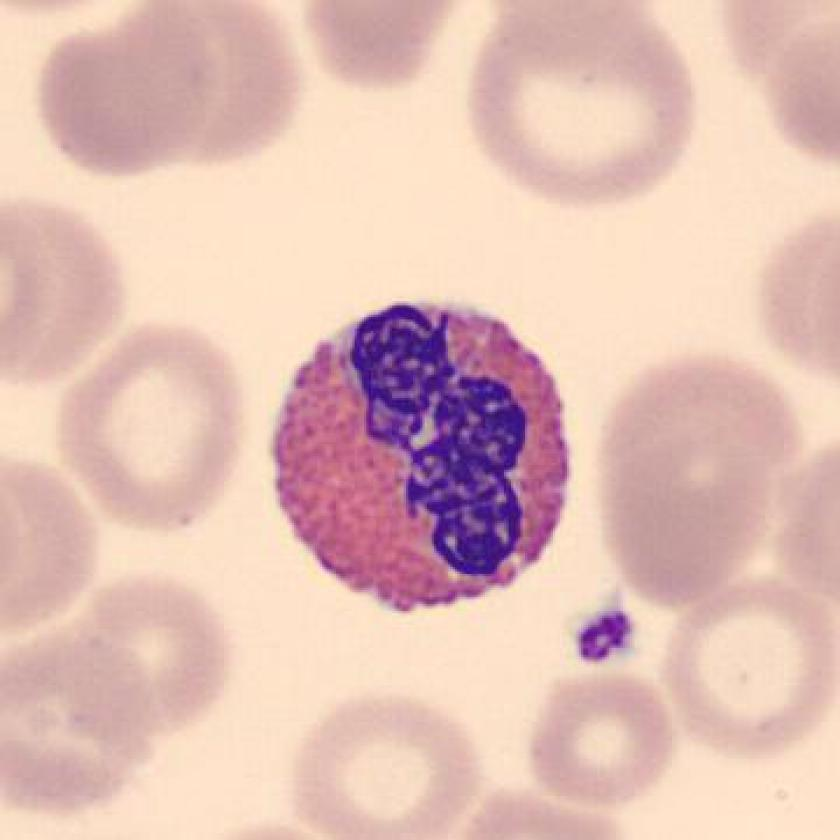eosinophil: (253, 288, 589, 635)
